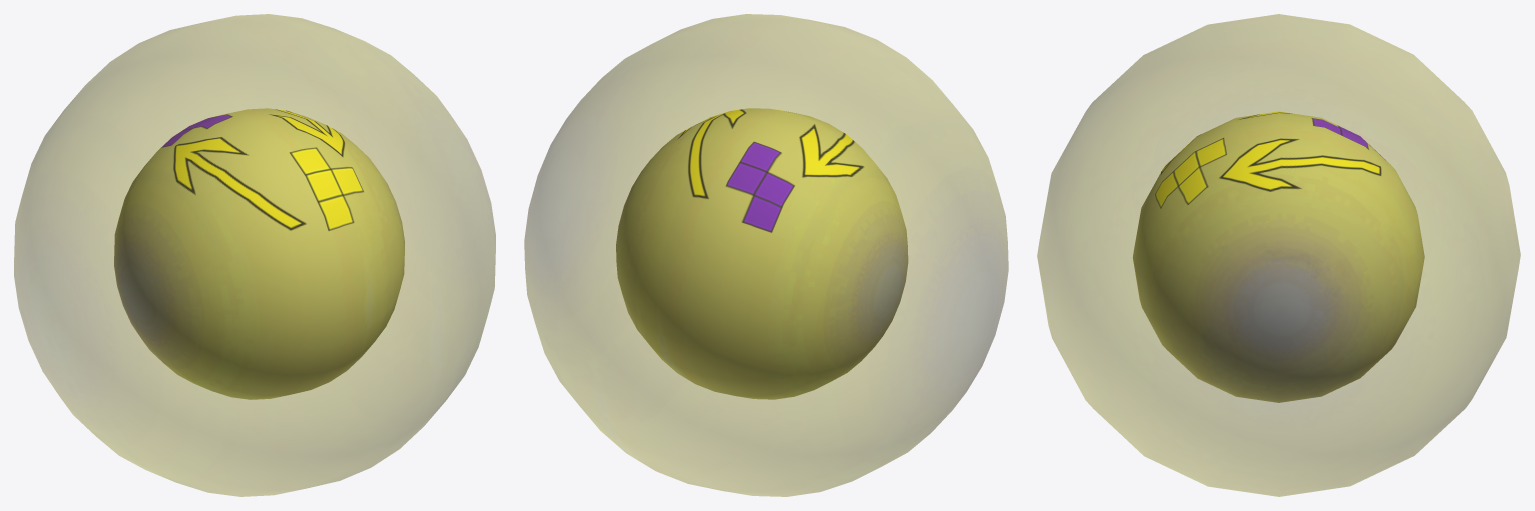
Rendered from Piece Swap.fbx.
The picture shows the model from 3 angles, left to right: view 1: azimuth 30°, elevation 25°; view 2: azimuth 150°, elevation 25°; view 3: azimuth 270°, elevation 25°; orthographic projection.
Visible parts, largest first — view 1: polySurface3; view 2: polySurface3; view 3: polySurface3.
Part boxes in pixels (x1,y1,x2,y2): polySurface3: (14, 14, 495, 496); polySurface3: (524, 14, 1008, 496); polySurface3: (1037, 14, 1520, 496).
Bounding box in the file's own units: 2 × 2 × 2.
2 materials, 2 textured.
